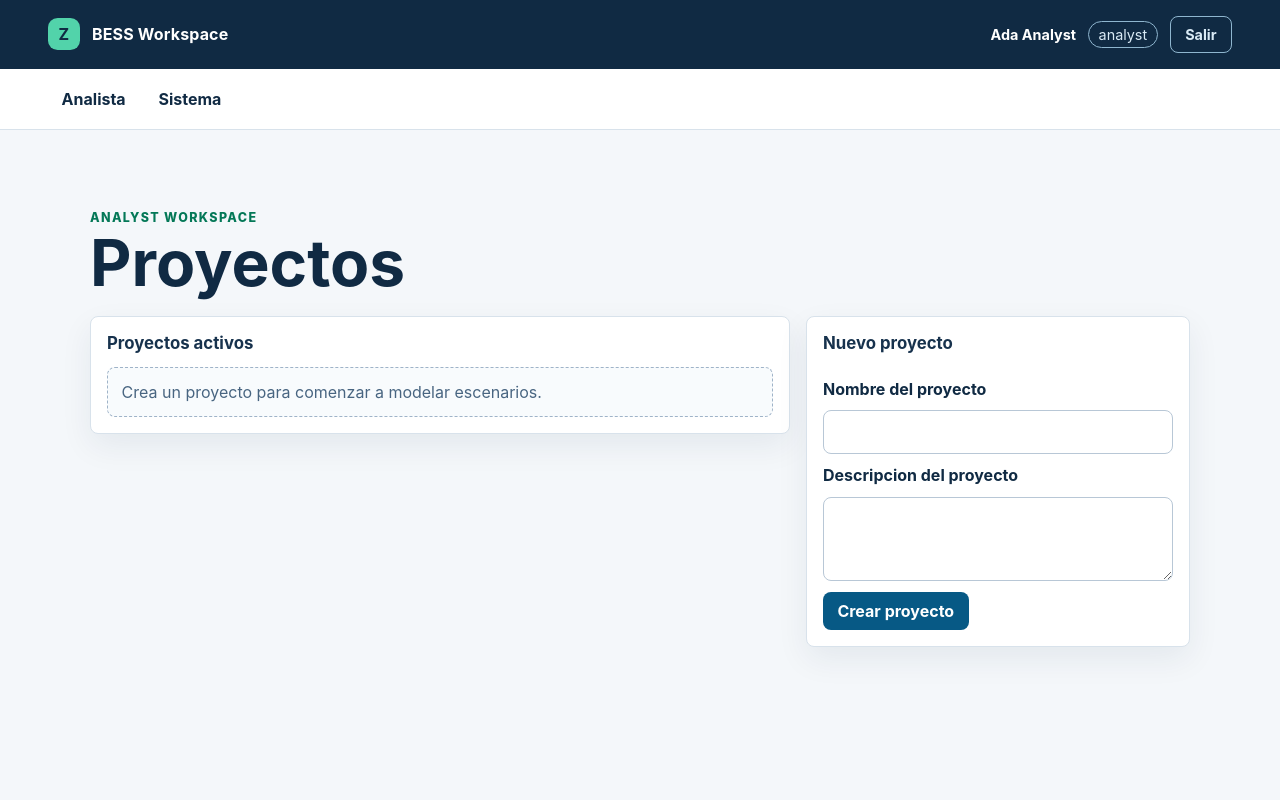
Test: application shell › navigates within the shell without a document reload
Expected: the text "Ada Analyst" is shown, [991,26,1076,43]
What coordinates should you click on to do the following:
click the link "Sistema"
I would click on:
 (190, 99)
Its box is [158,89,221,109].
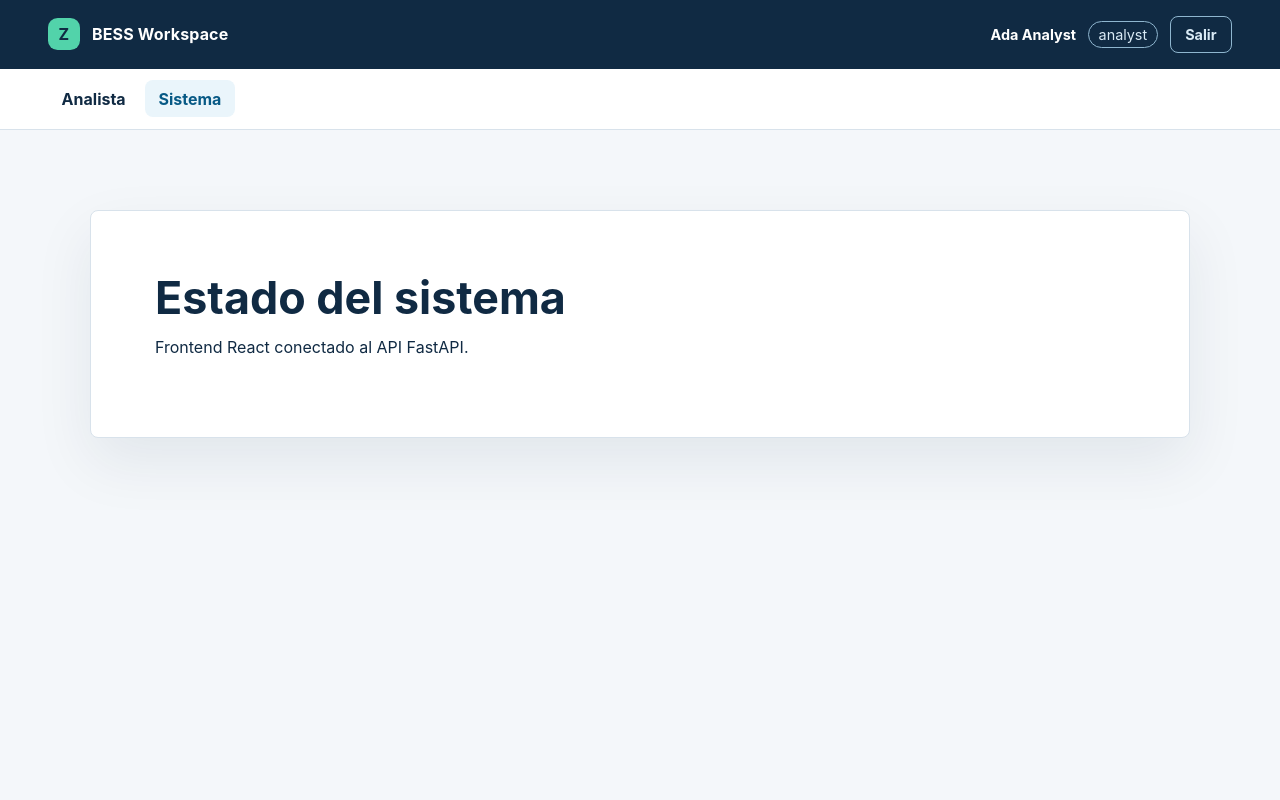
Expected: the heading "Estado del sistema" is shown, [155,271,566,325]
